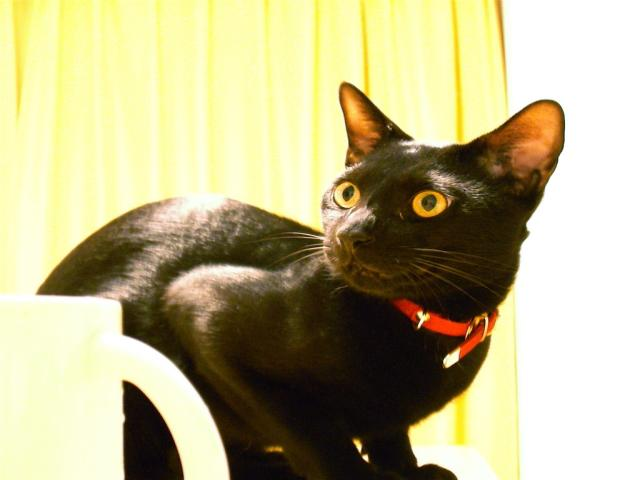Cat: (30, 80, 566, 480)
